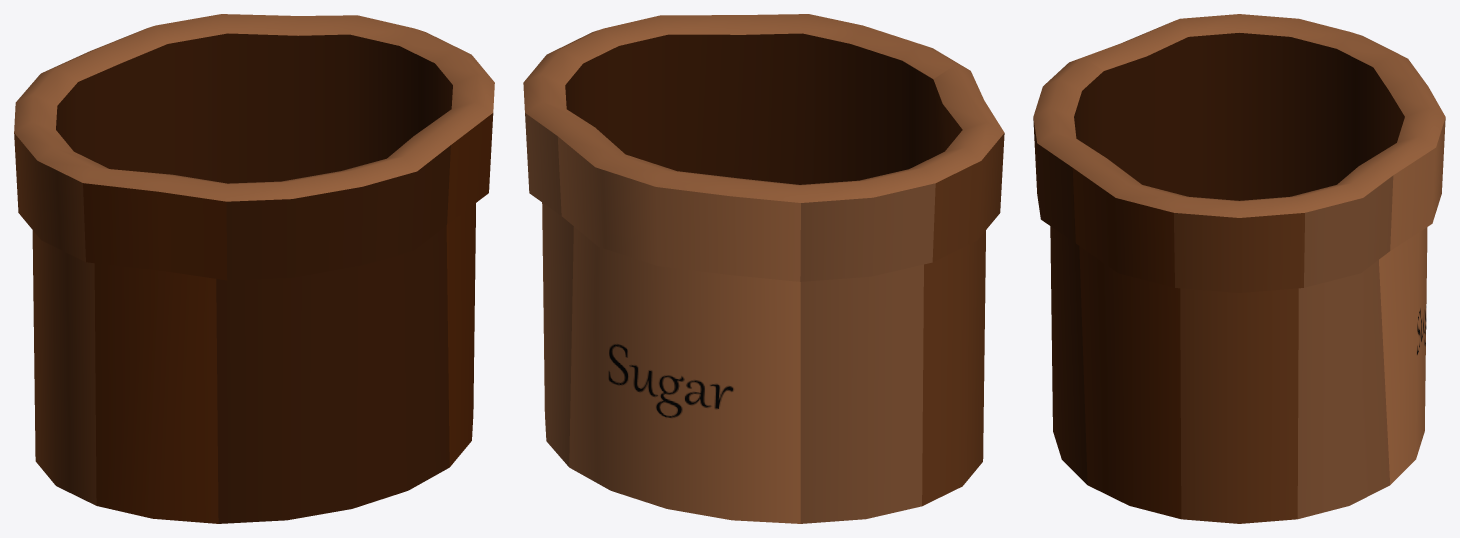
File: sugarbag.fbx
3 views of the same model, side by side, from view 1: azimuth 30°, elevation 25°; view 2: azimuth 150°, elevation 25°; view 3: azimuth 270°, elevation 25° (orthographic). The views are drawn at different scales.
Parts seen in each view (by area): view 1: pCylinder1; view 2: pCylinder1; view 3: pCylinder1.
Boxes of the visible parts, x1,y1,x2,y2 form: pCylinder1: (14,14,494,523); pCylinder1: (523,14,1004,523); pCylinder1: (1033,14,1445,523).
Bounding box in the file's own units: 7.24 × 5.86 × 6.24.
Materials: 1 (1 with a texture image).
